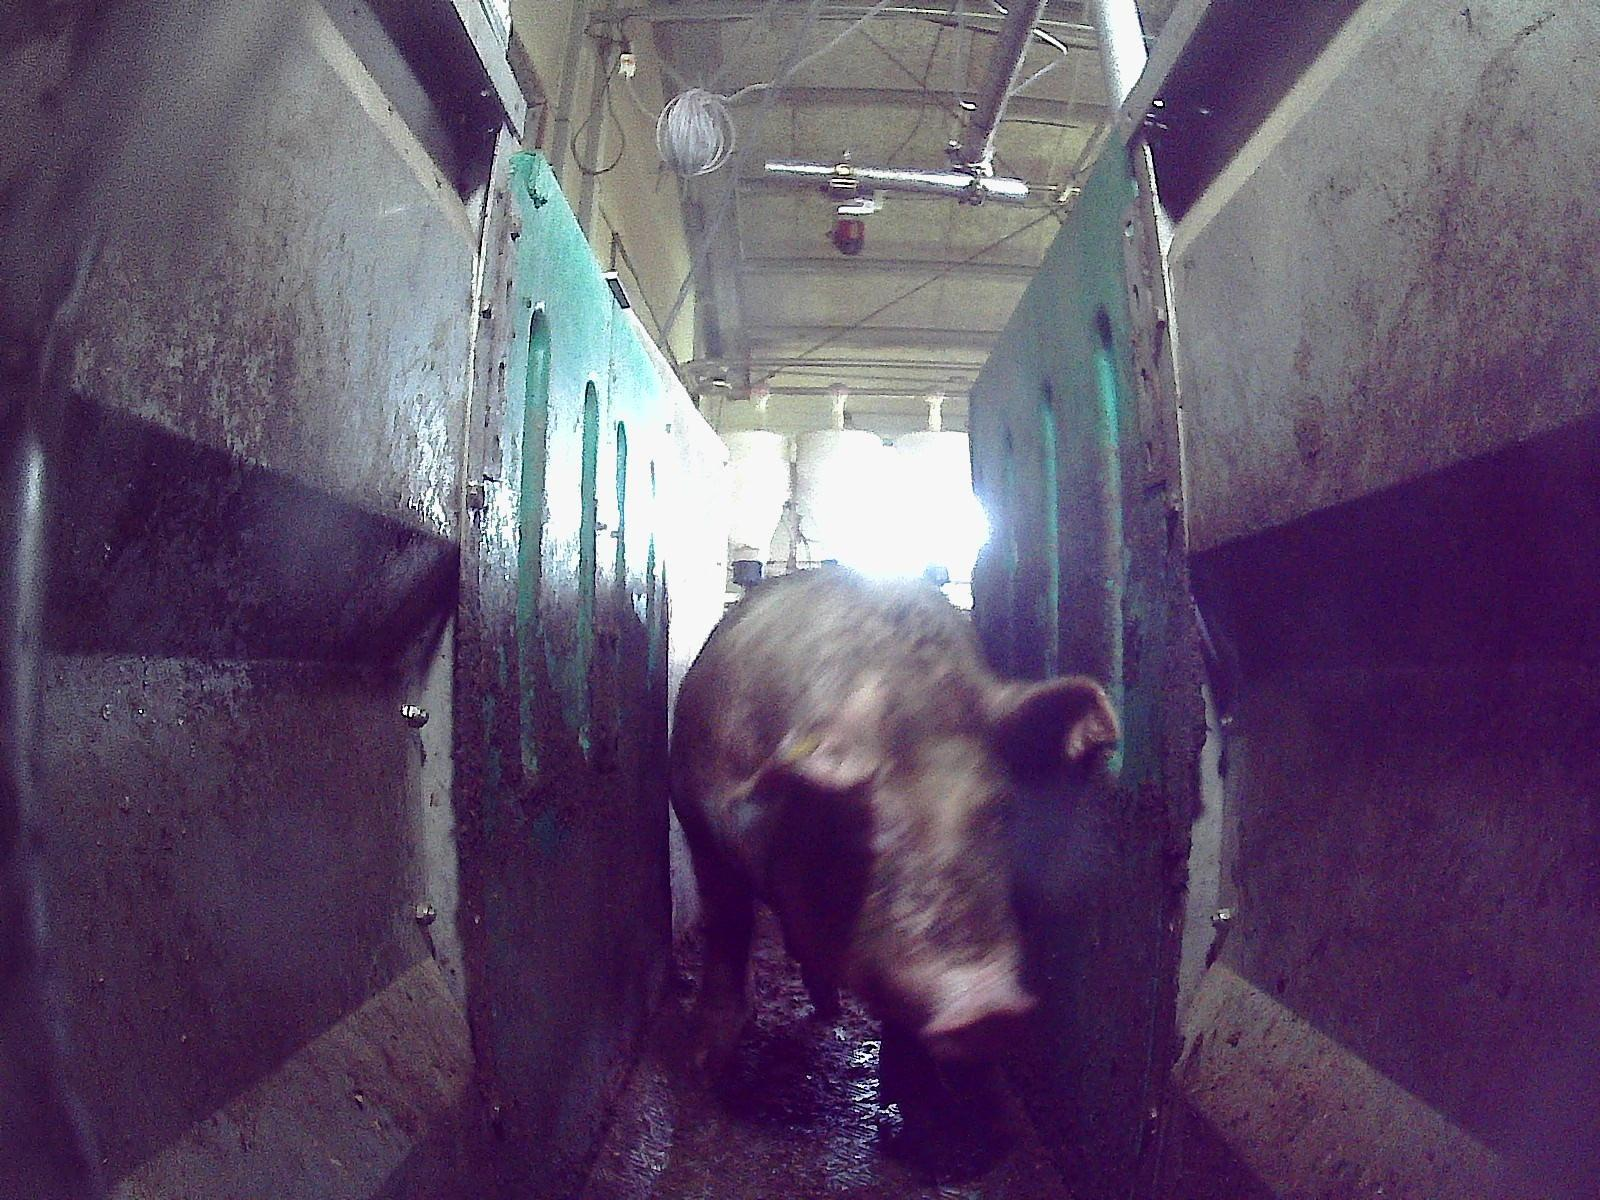Face: (764, 665, 1038, 1066)
